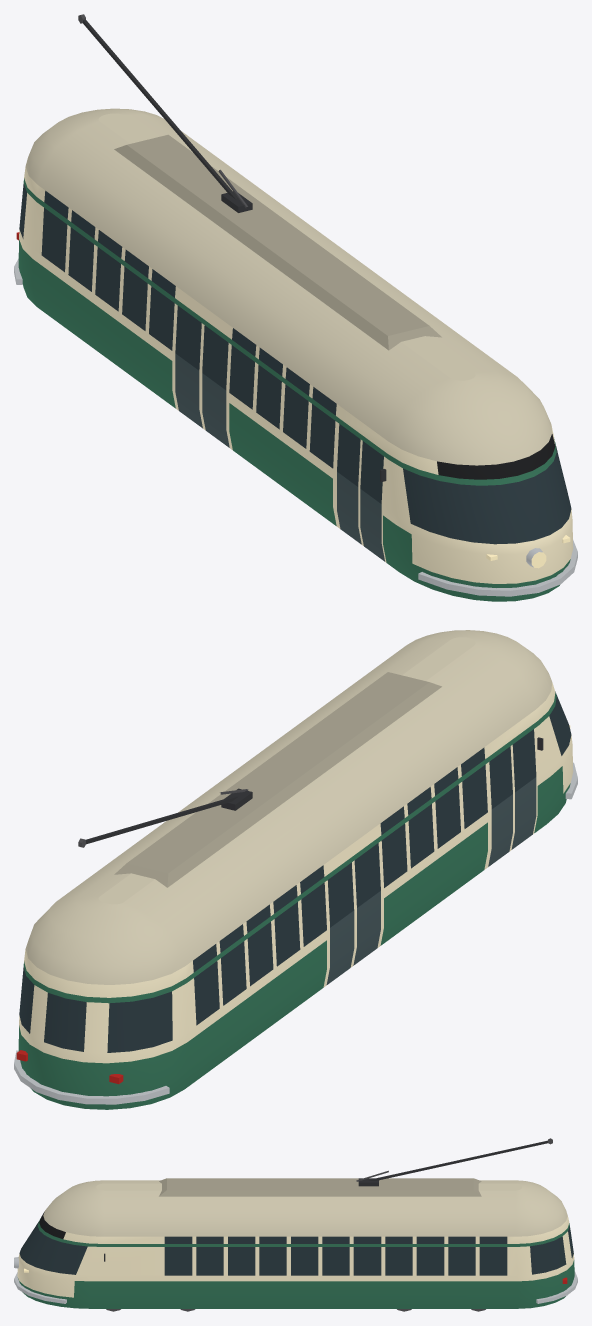
File: sf_streetcar.glb
The picture shows the model from 3 angles, top to bottom: view 1: azimuth 30°, elevation 25°; view 2: azimuth 150°, elevation 25°; view 3: azimuth 270°, elevation 25°; orthographic projection. The views are drawn at different scales.
Parts seen in each view (by area): view 1: sf_streetcar; view 2: sf_streetcar; view 3: sf_streetcar.
Part boxes in pixels (x1,y1,x2,y2): sf_streetcar: [14, 14, 577, 601]; sf_streetcar: [14, 630, 577, 1109]; sf_streetcar: [14, 1138, 577, 1311].
Size of the model in its own units: 2.72 by 4.37 by 13.97.
Materials: 1 (1 with a texture image).
